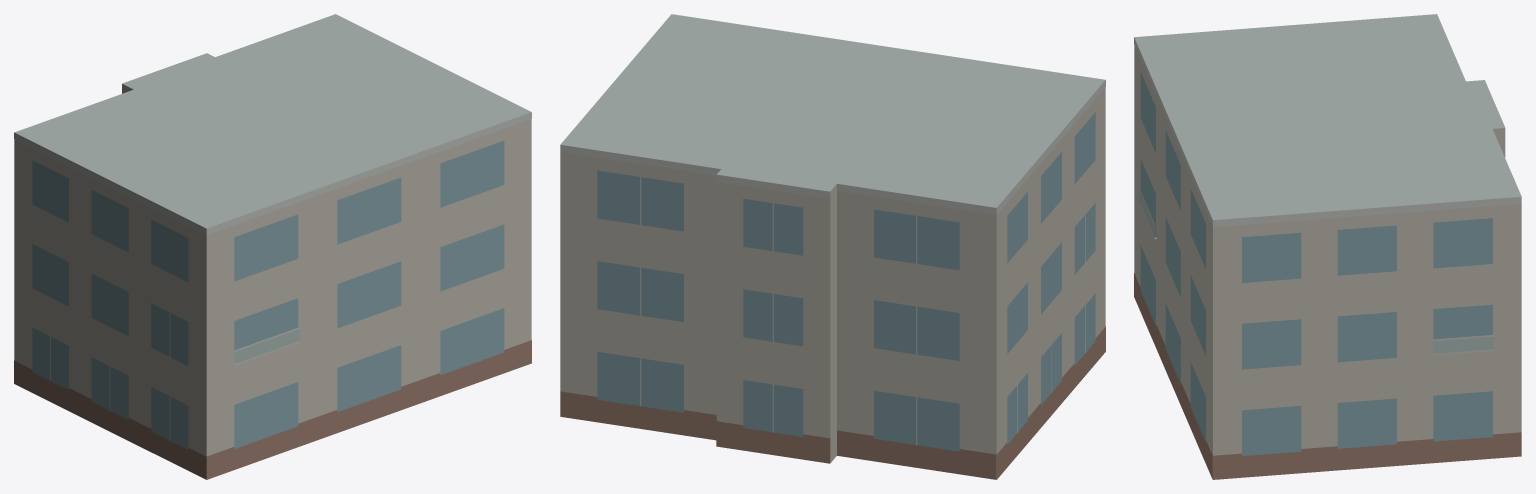
Rendered from survey-upis-32903946.glb.
The picture shows the model from 3 angles, left to right: view 1: azimuth 30°, elevation 25°; view 2: azimuth 150°, elevation 25°; view 3: azimuth 270°, elevation 25°; orthographic projection. The views are drawn at different scales.
Parts seen in each view (by area): view 1: survey-upis-32903946.tmp; view 2: survey-upis-32903946.tmp; view 3: survey-upis-32903946.tmp.
Boxes of the visible parts, x1,y1,x2,y2 form: survey-upis-32903946.tmp: (14,14,531,479); survey-upis-32903946.tmp: (560,14,1105,479); survey-upis-32903946.tmp: (1134,14,1521,479).
Size of the model in its own units: 15.6 by 9.15 by 12.39.
